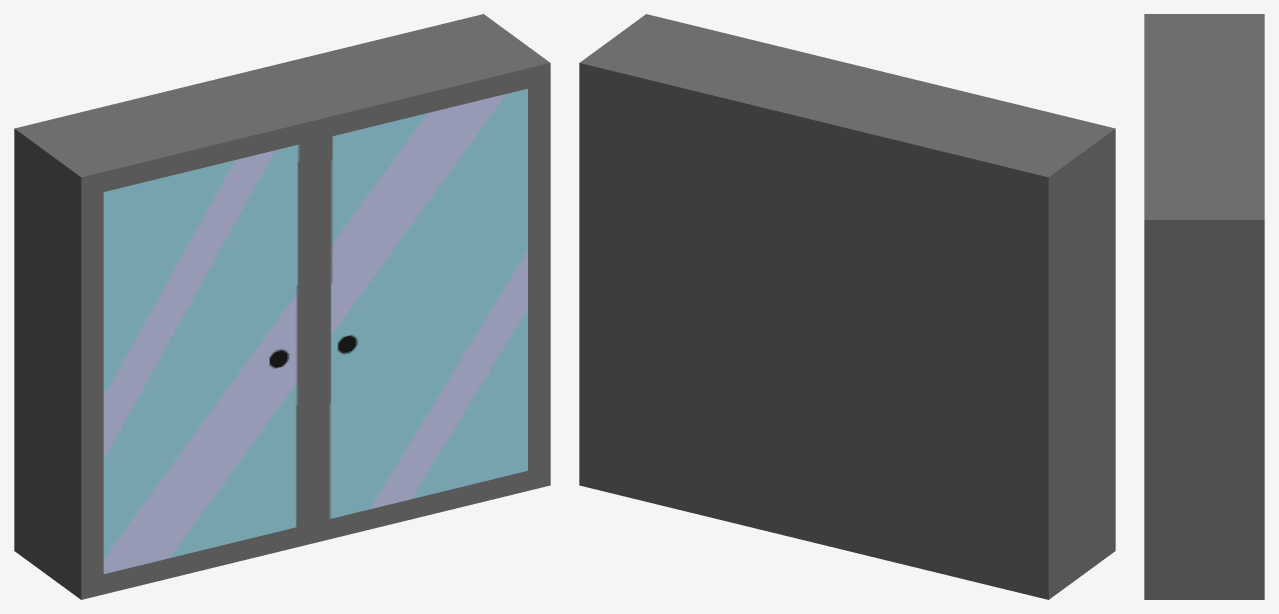
Rendered from KS_Cupboard.fbx.
3 renders of one model, left to right at view 1: azimuth 30°, elevation 25°; view 2: azimuth 150°, elevation 25°; view 3: azimuth 270°, elevation 25°, orthographic. The views are drawn at different scales.
Parts seen in each view (by area): view 1: KS_Cupboard; view 2: KS_Cupboard; view 3: KS_Cupboard.
Part boxes in pixels (x1,y1,x2,y2): KS_Cupboard: (14,14,550,599); KS_Cupboard: (579,14,1115,599); KS_Cupboard: (1144,14,1264,599).
Size of the model in its own units: 296 by 255 by 72.98.
